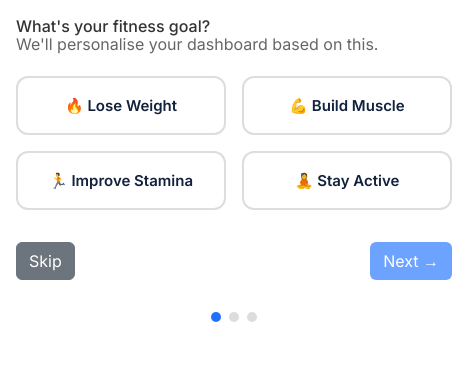
Scenario: Onboarding › moves to activity level screen after clicking Next
Click the switch "🔥 Lose Weight" at [121, 106], box [16,76,226,135]
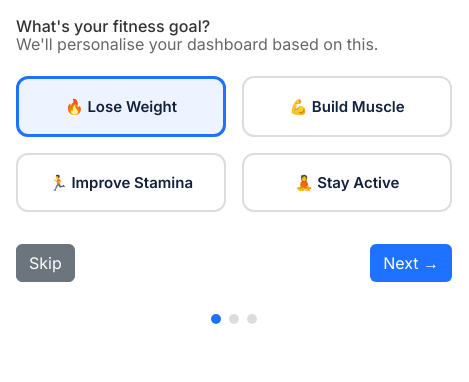
Click the button "Next →" at [411, 263], box [370,244,452,282]
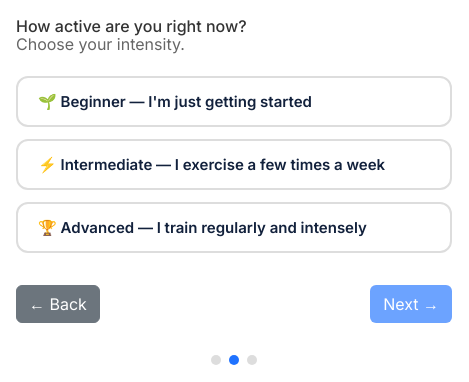
Expected: the heading "How active are you right now?" is shown, [16,16,247,36]
